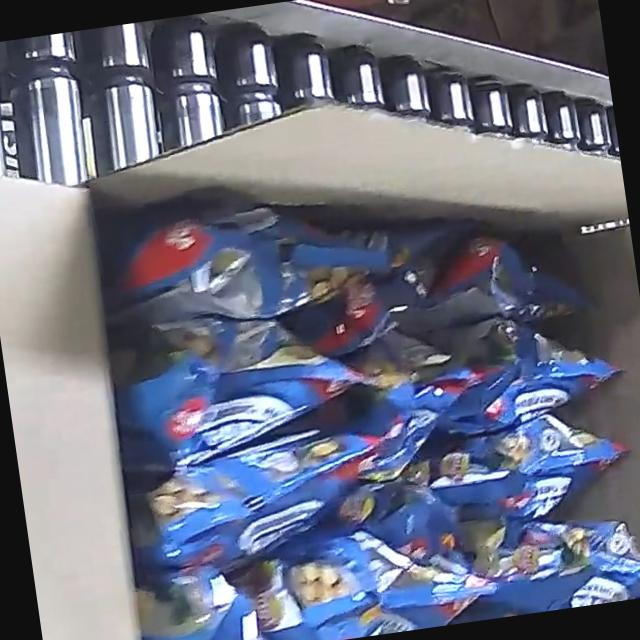paprika: (80, 144, 640, 640)
